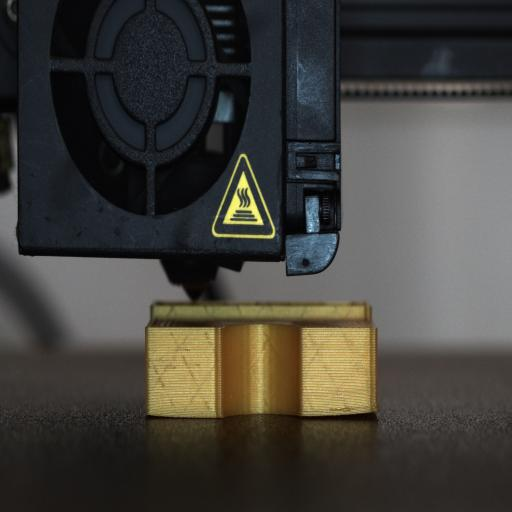warp: (316, 399, 381, 423)
